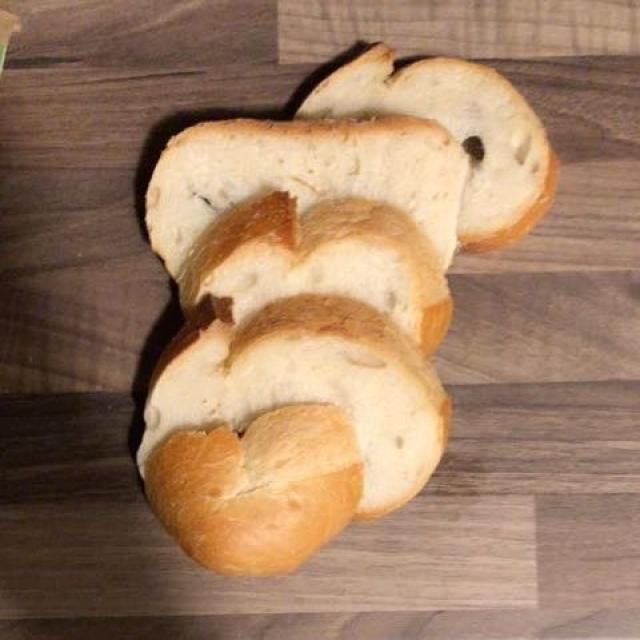bread-white: (139, 43, 558, 570)
